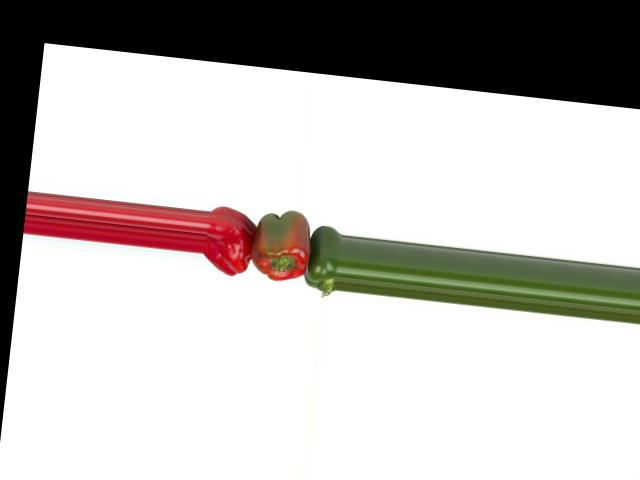bell_pepper: (200, 201, 259, 283)
